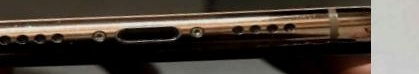scratch: (0, 0, 342, 74)
